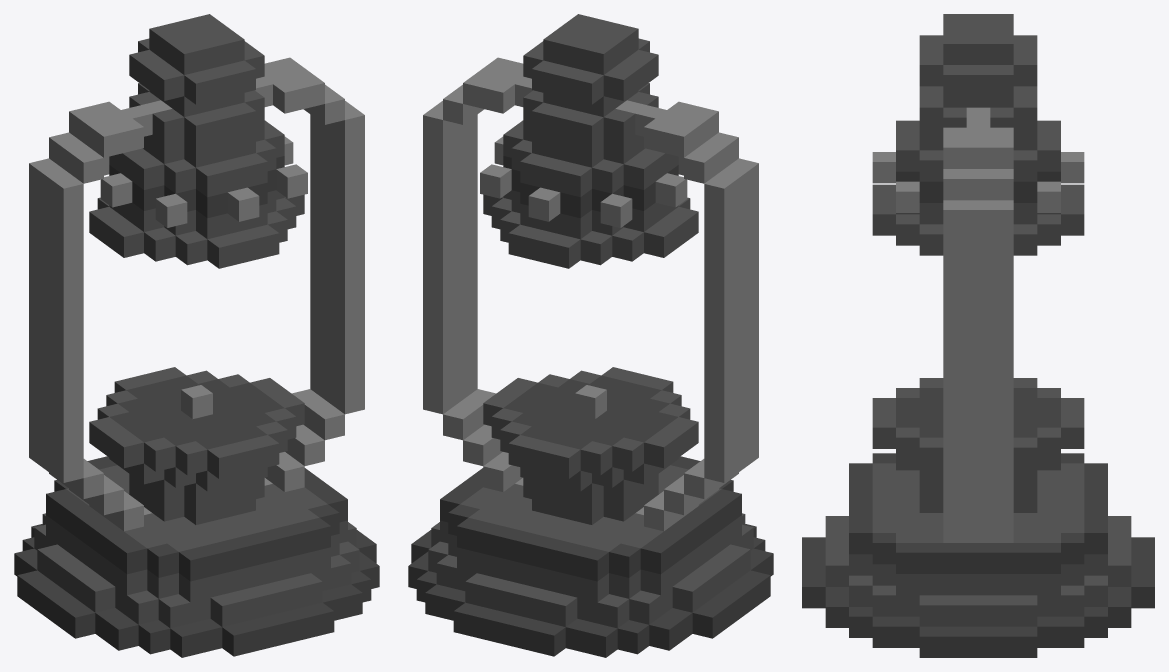
Rendered from Lantern_Body.obj.
3 views of the same model, side by side, from view 1: azimuth 30°, elevation 25°; view 2: azimuth 150°, elevation 25°; view 3: azimuth 270°, elevation 25° (orthographic).
Size of the model in its own units: 1.5 by 2.6 by 1.5.
1 material, 1 textured.
